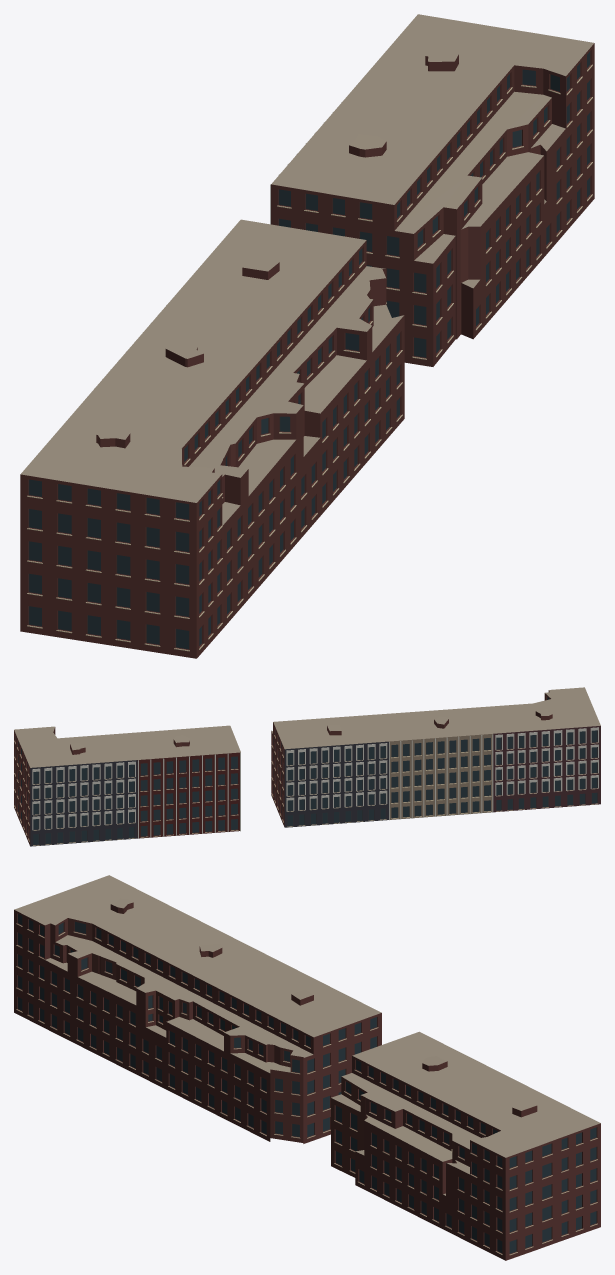
File: recipe-large-memeleiland-251849.glb
3 views of the same model, one above another, from view 1: azimuth 30°, elevation 25°; view 2: azimuth 150°, elevation 25°; view 3: azimuth 270°, elevation 25° (orthographic). The views are drawn at different scales.
Parts seen in each view (by area): view 1: memeleiland-251849; view 2: memeleiland-251849; view 3: memeleiland-251849.
Boxes of the visible parts, x1,y1,x2,y2 form: memeleiland-251849: (20,14,594,658); memeleiland-251849: (14,687,600,846); memeleiland-251849: (14,875,600,1260).
Bounding box in the file's own units: 107 × 19.51 × 94.42.
